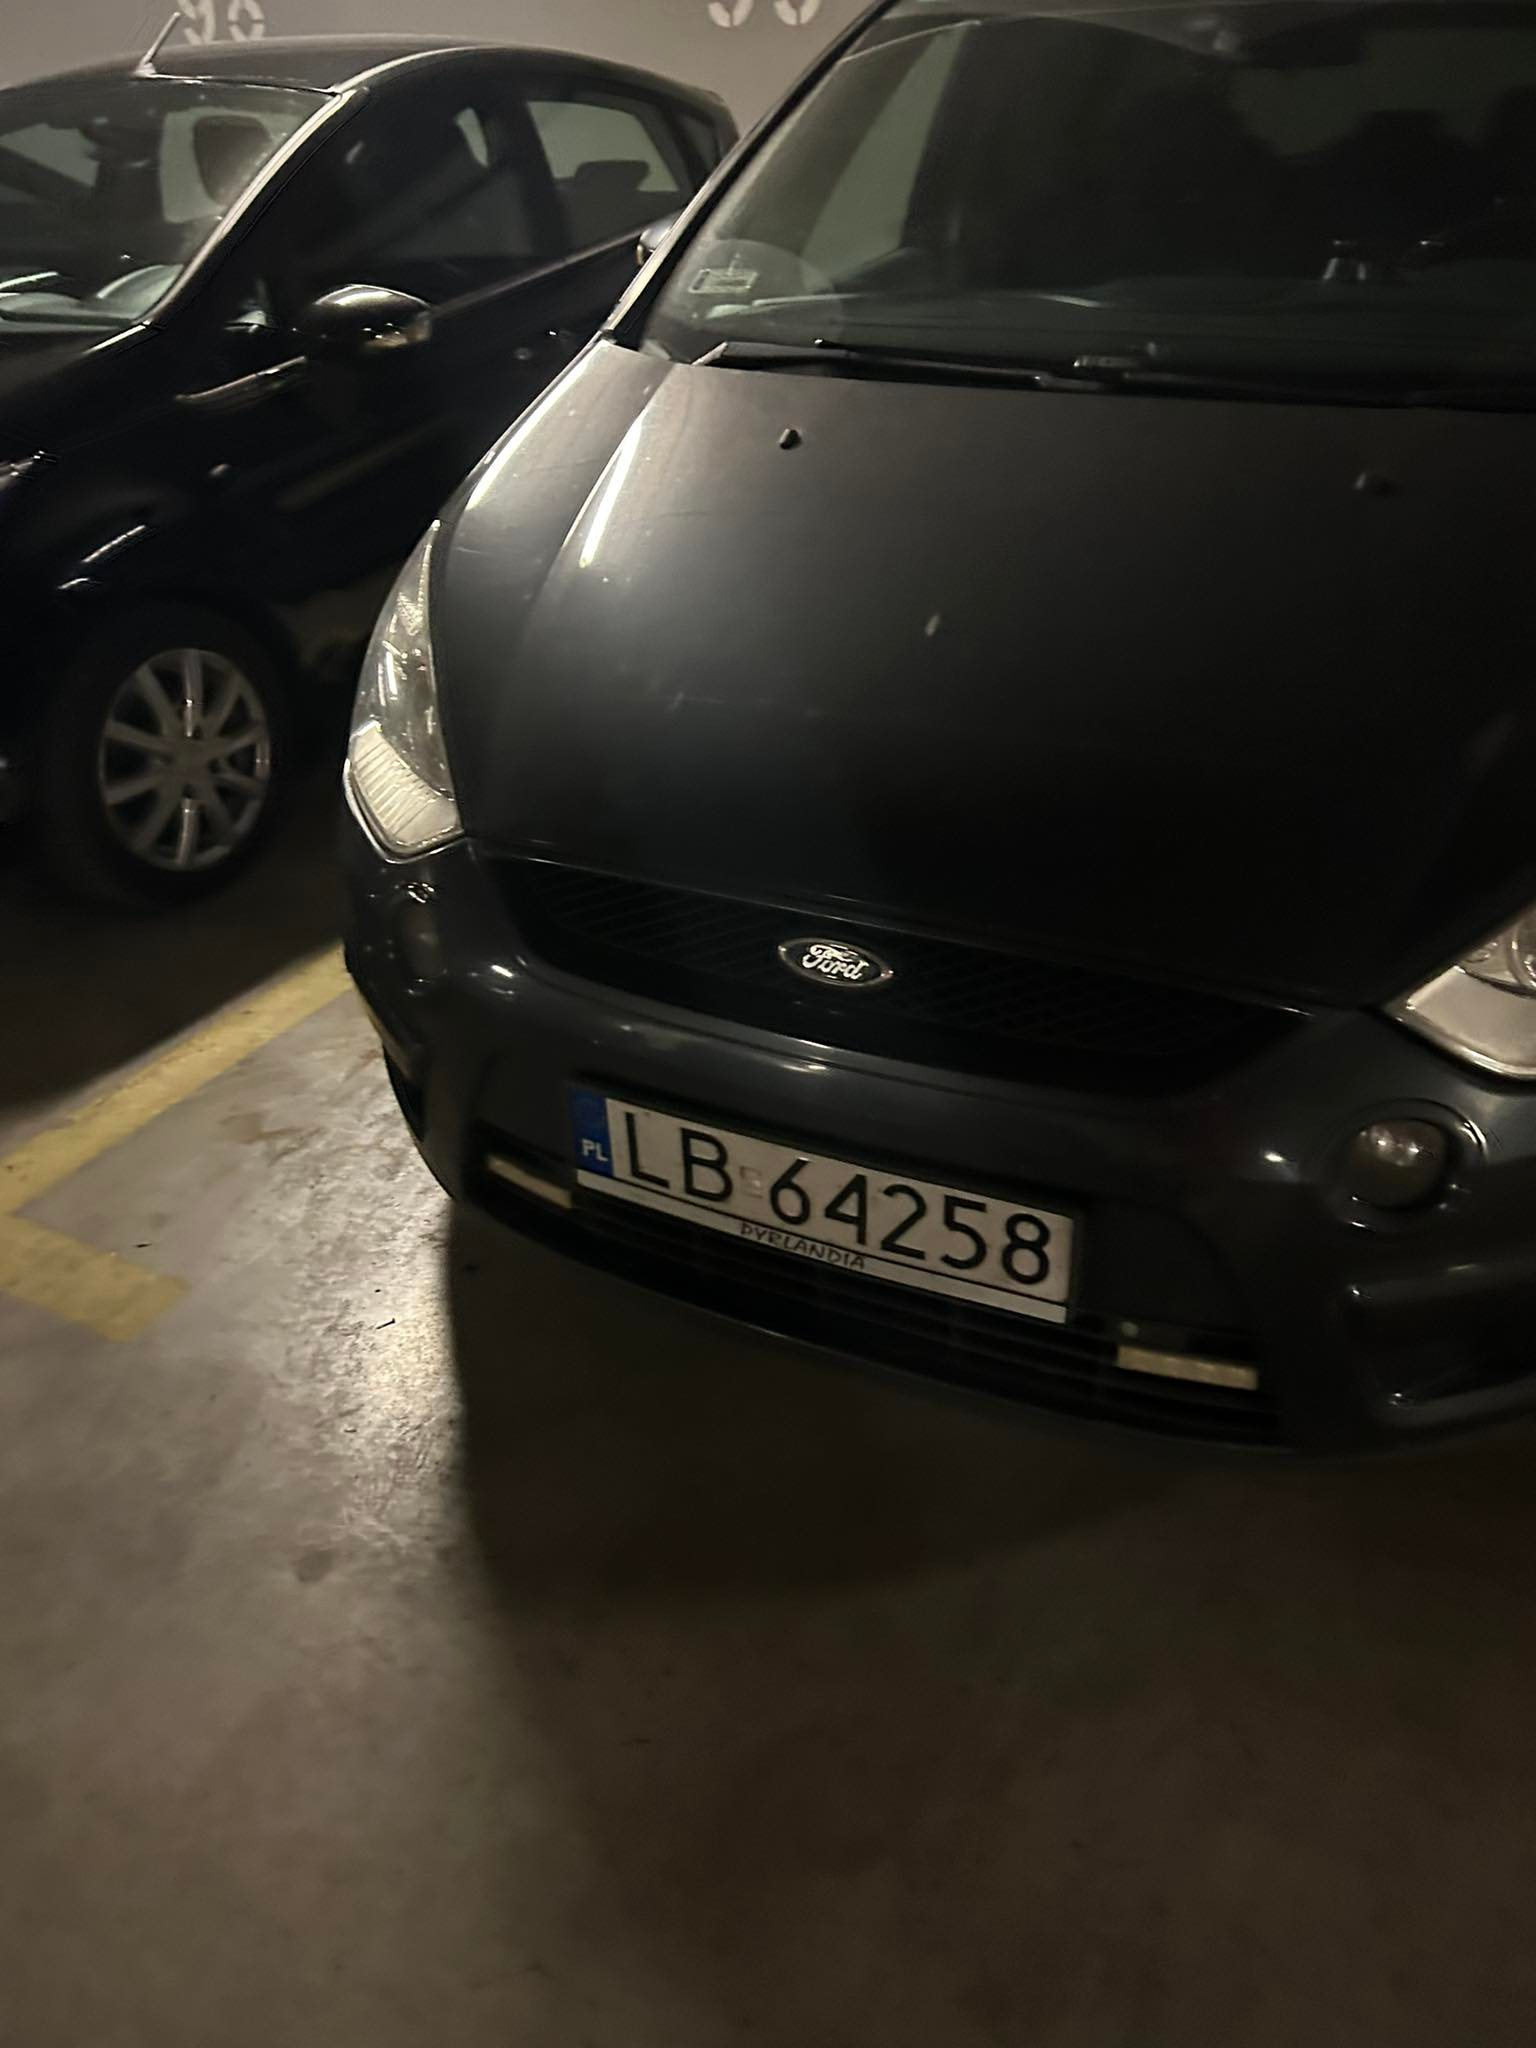number_plate: (579, 1085, 1088, 1350)
